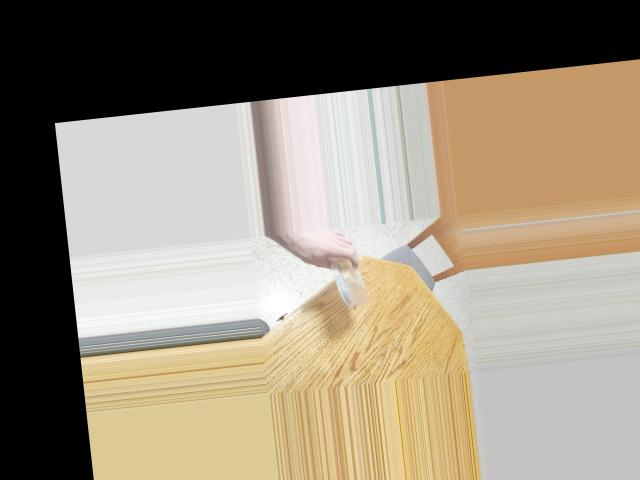cheese: (320, 254, 368, 305)
